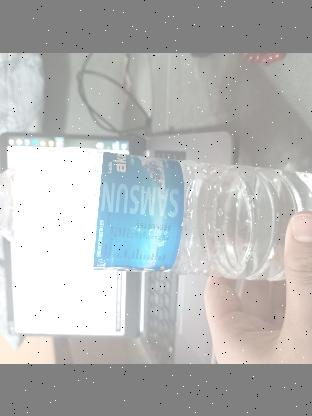Plastic Bottle: (0, 144, 312, 285)
